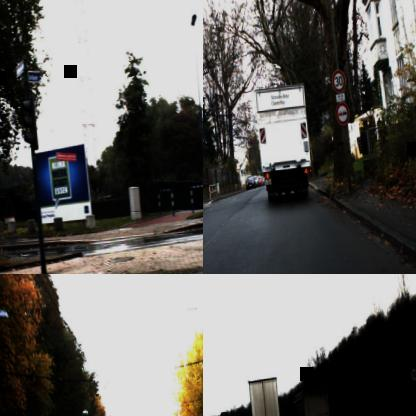no overtaking (trucks): (334, 101, 350, 126)
speed limit 100: (408, 365, 416, 383)
speed limit 30: (331, 68, 347, 94)
